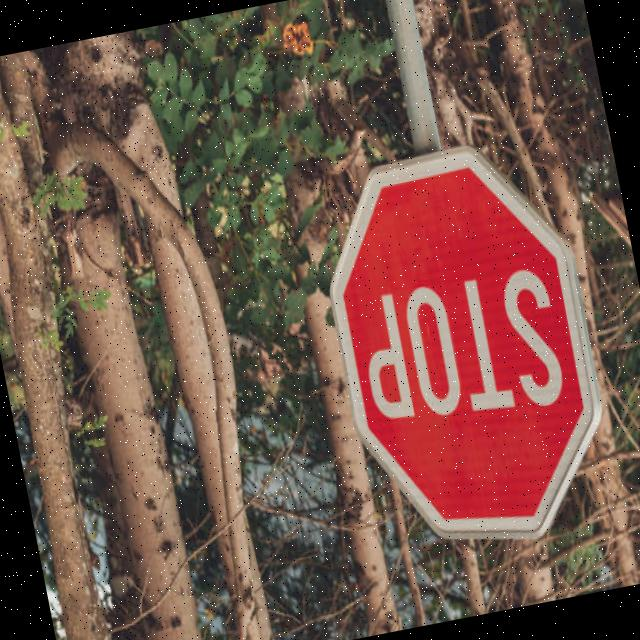stop: (308, 127, 626, 572)
